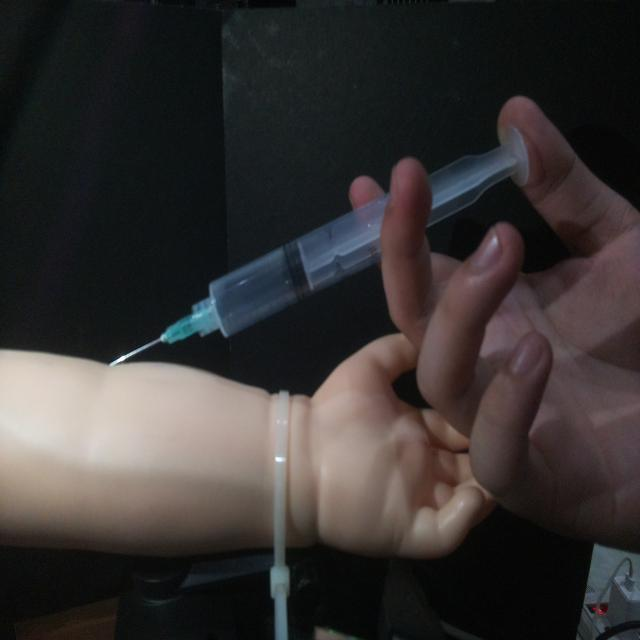24deg: (104, 120, 534, 370)
